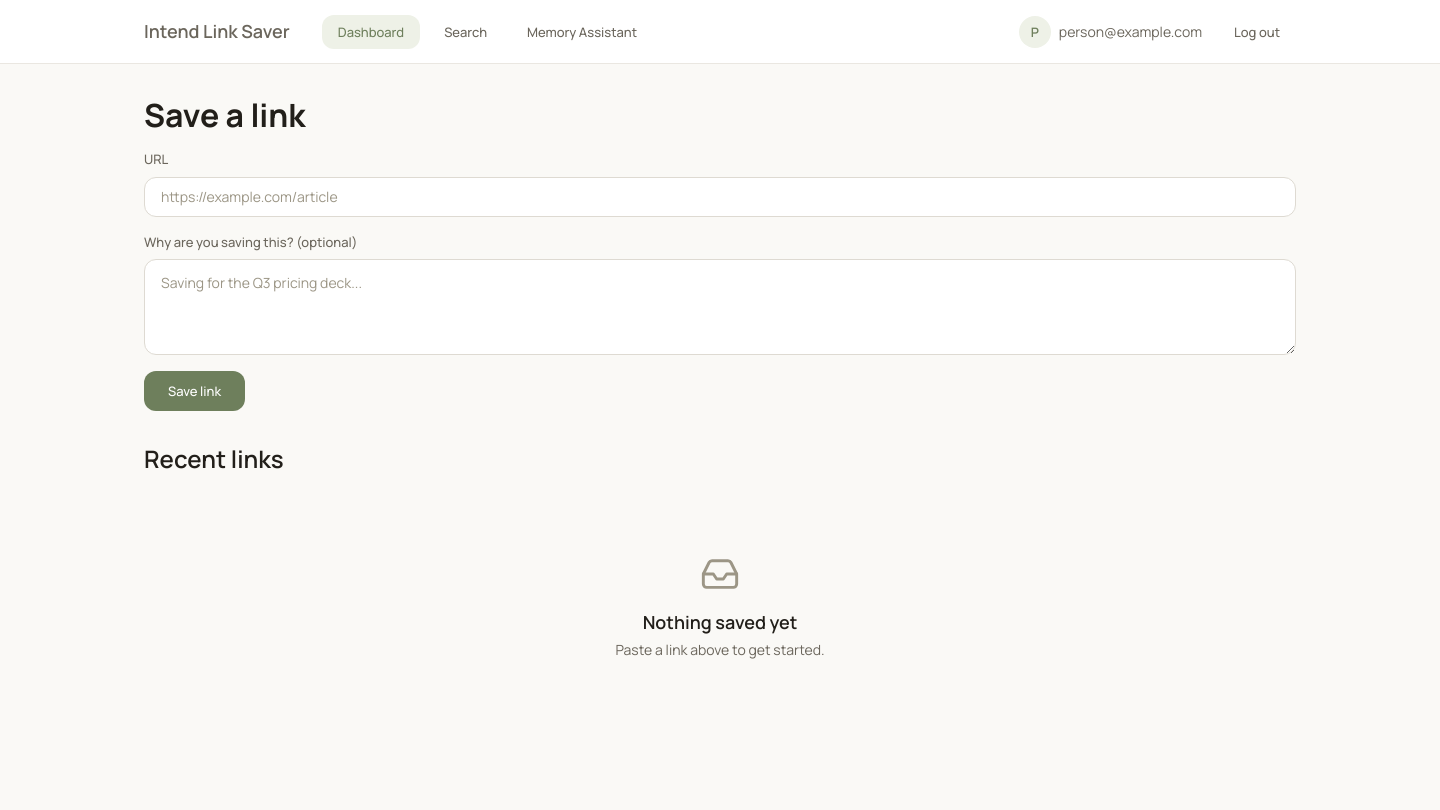
Test: App (routing + auth integration) › logging out returns to /login and blocks re-entry to the protected route
Expected: the header is shown, [0,0,1439,64]
Click the button "Log out" at (1257, 32), box [1218,16,1296,48]
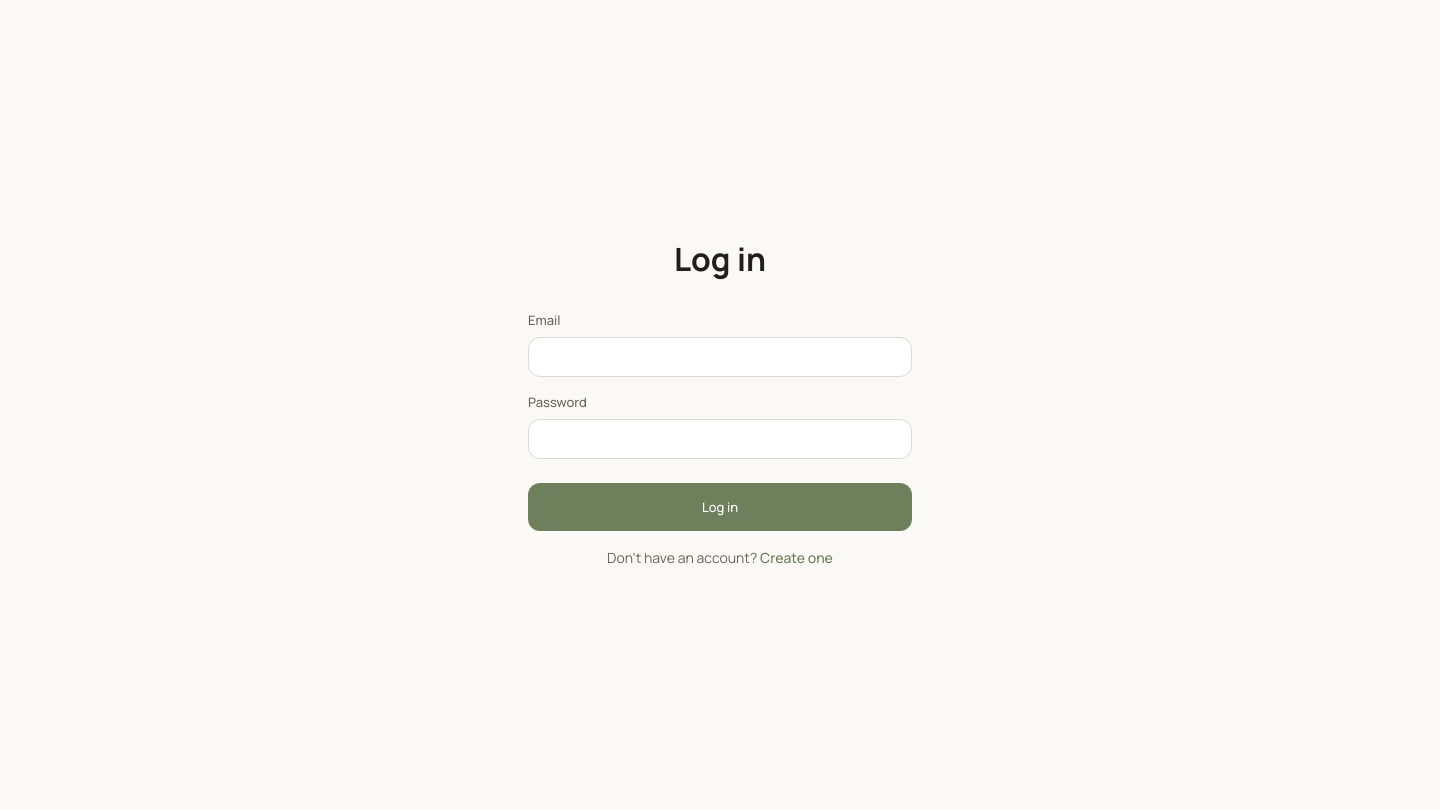
Result: the heading "Log in" is shown at [674,237,766,281]
